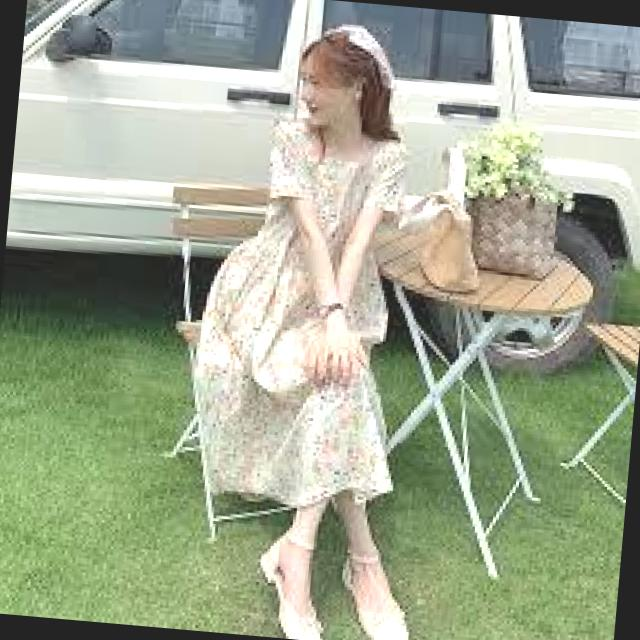dress: (171, 110, 425, 543)
